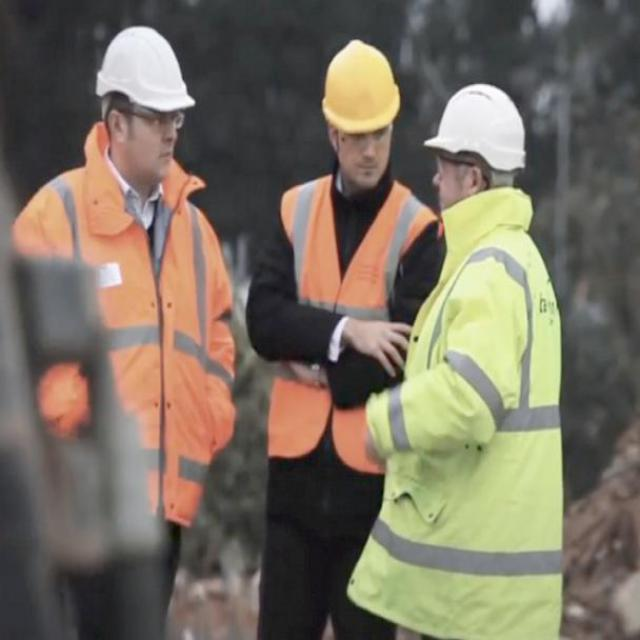helmet: (89, 14, 200, 193), (422, 69, 518, 238), (320, 28, 402, 190)
vest: (388, 235, 571, 639), (37, 178, 239, 500), (280, 186, 393, 461)
